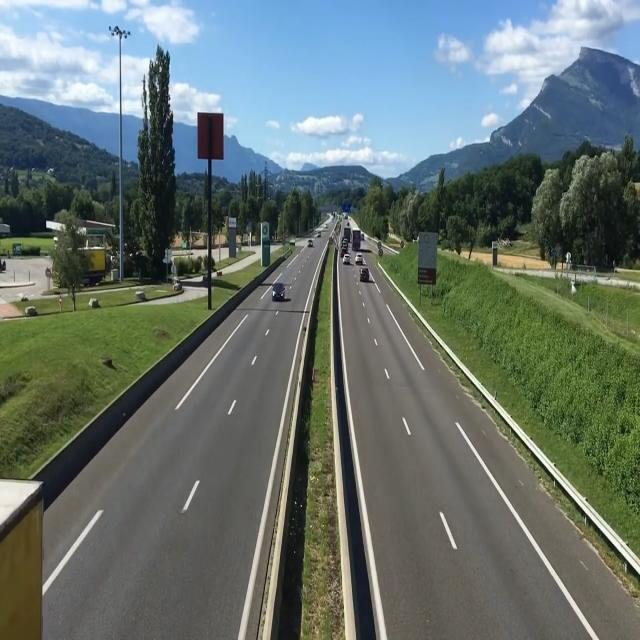car: (269, 277, 292, 303), (359, 266, 371, 284), (307, 238, 315, 250)
truck: (351, 228, 361, 252)
